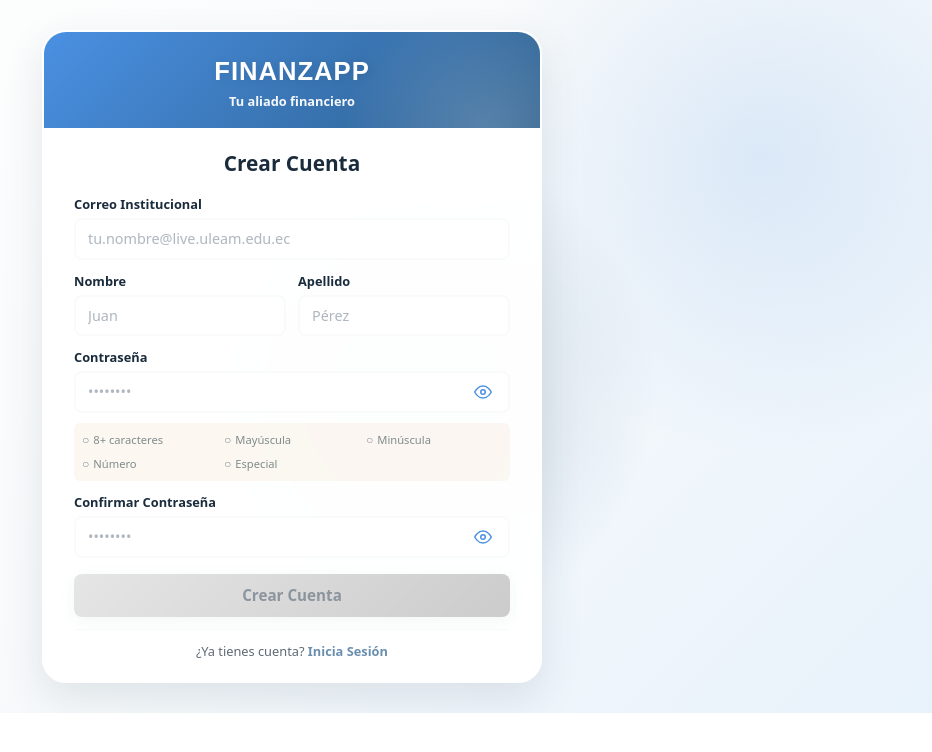
it: Register.vue › Muestra mensaje de éxito cuando las contraseñas coinciden
Type "David123#" into the password field labelled "Contraseña" at (292, 392), box x1=74 y1=372 x2=510 y2=413
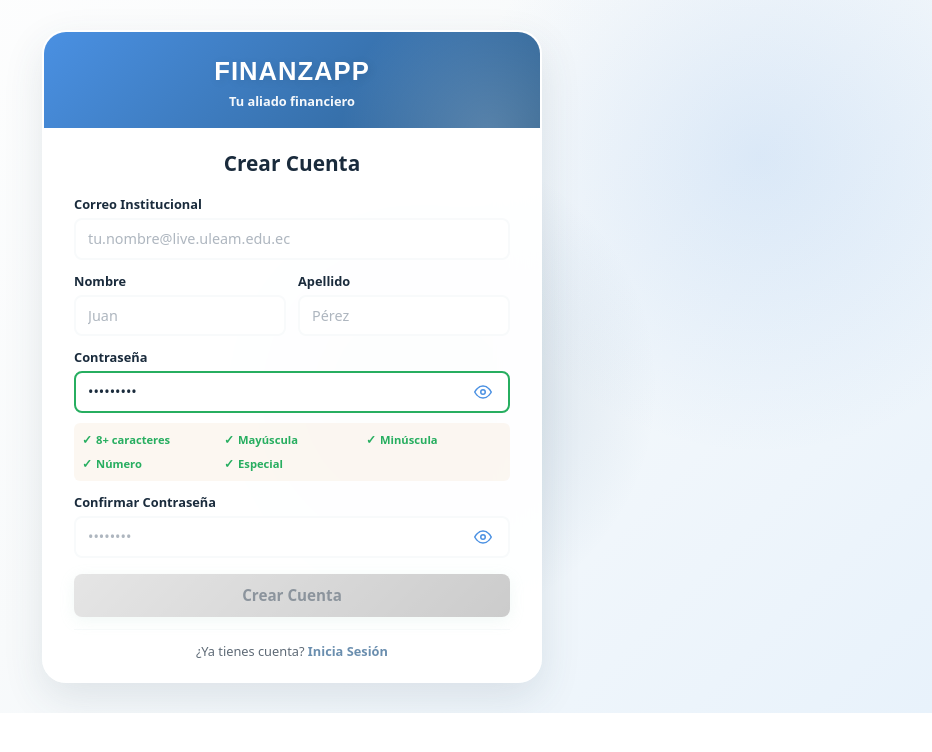
Type "David123#" into the password field with id "confirmPassword" at (292, 537), box x1=74 y1=516 x2=510 y2=558
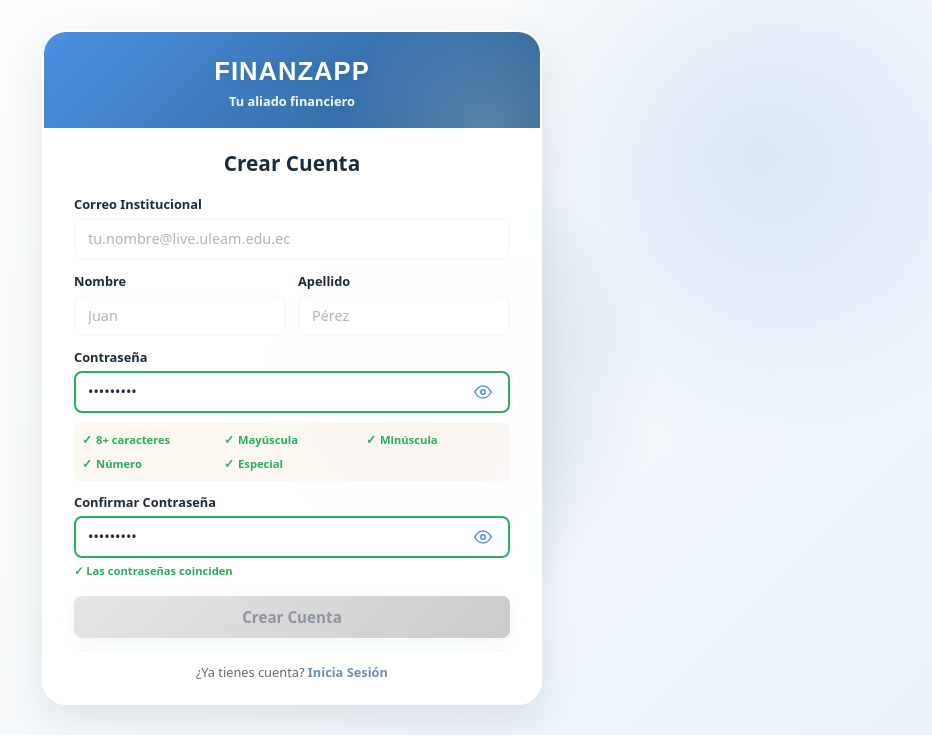
Expected: the text "✓ Las contraseñas coinciden" is shown, x1=74 y1=563 x2=233 y2=578
